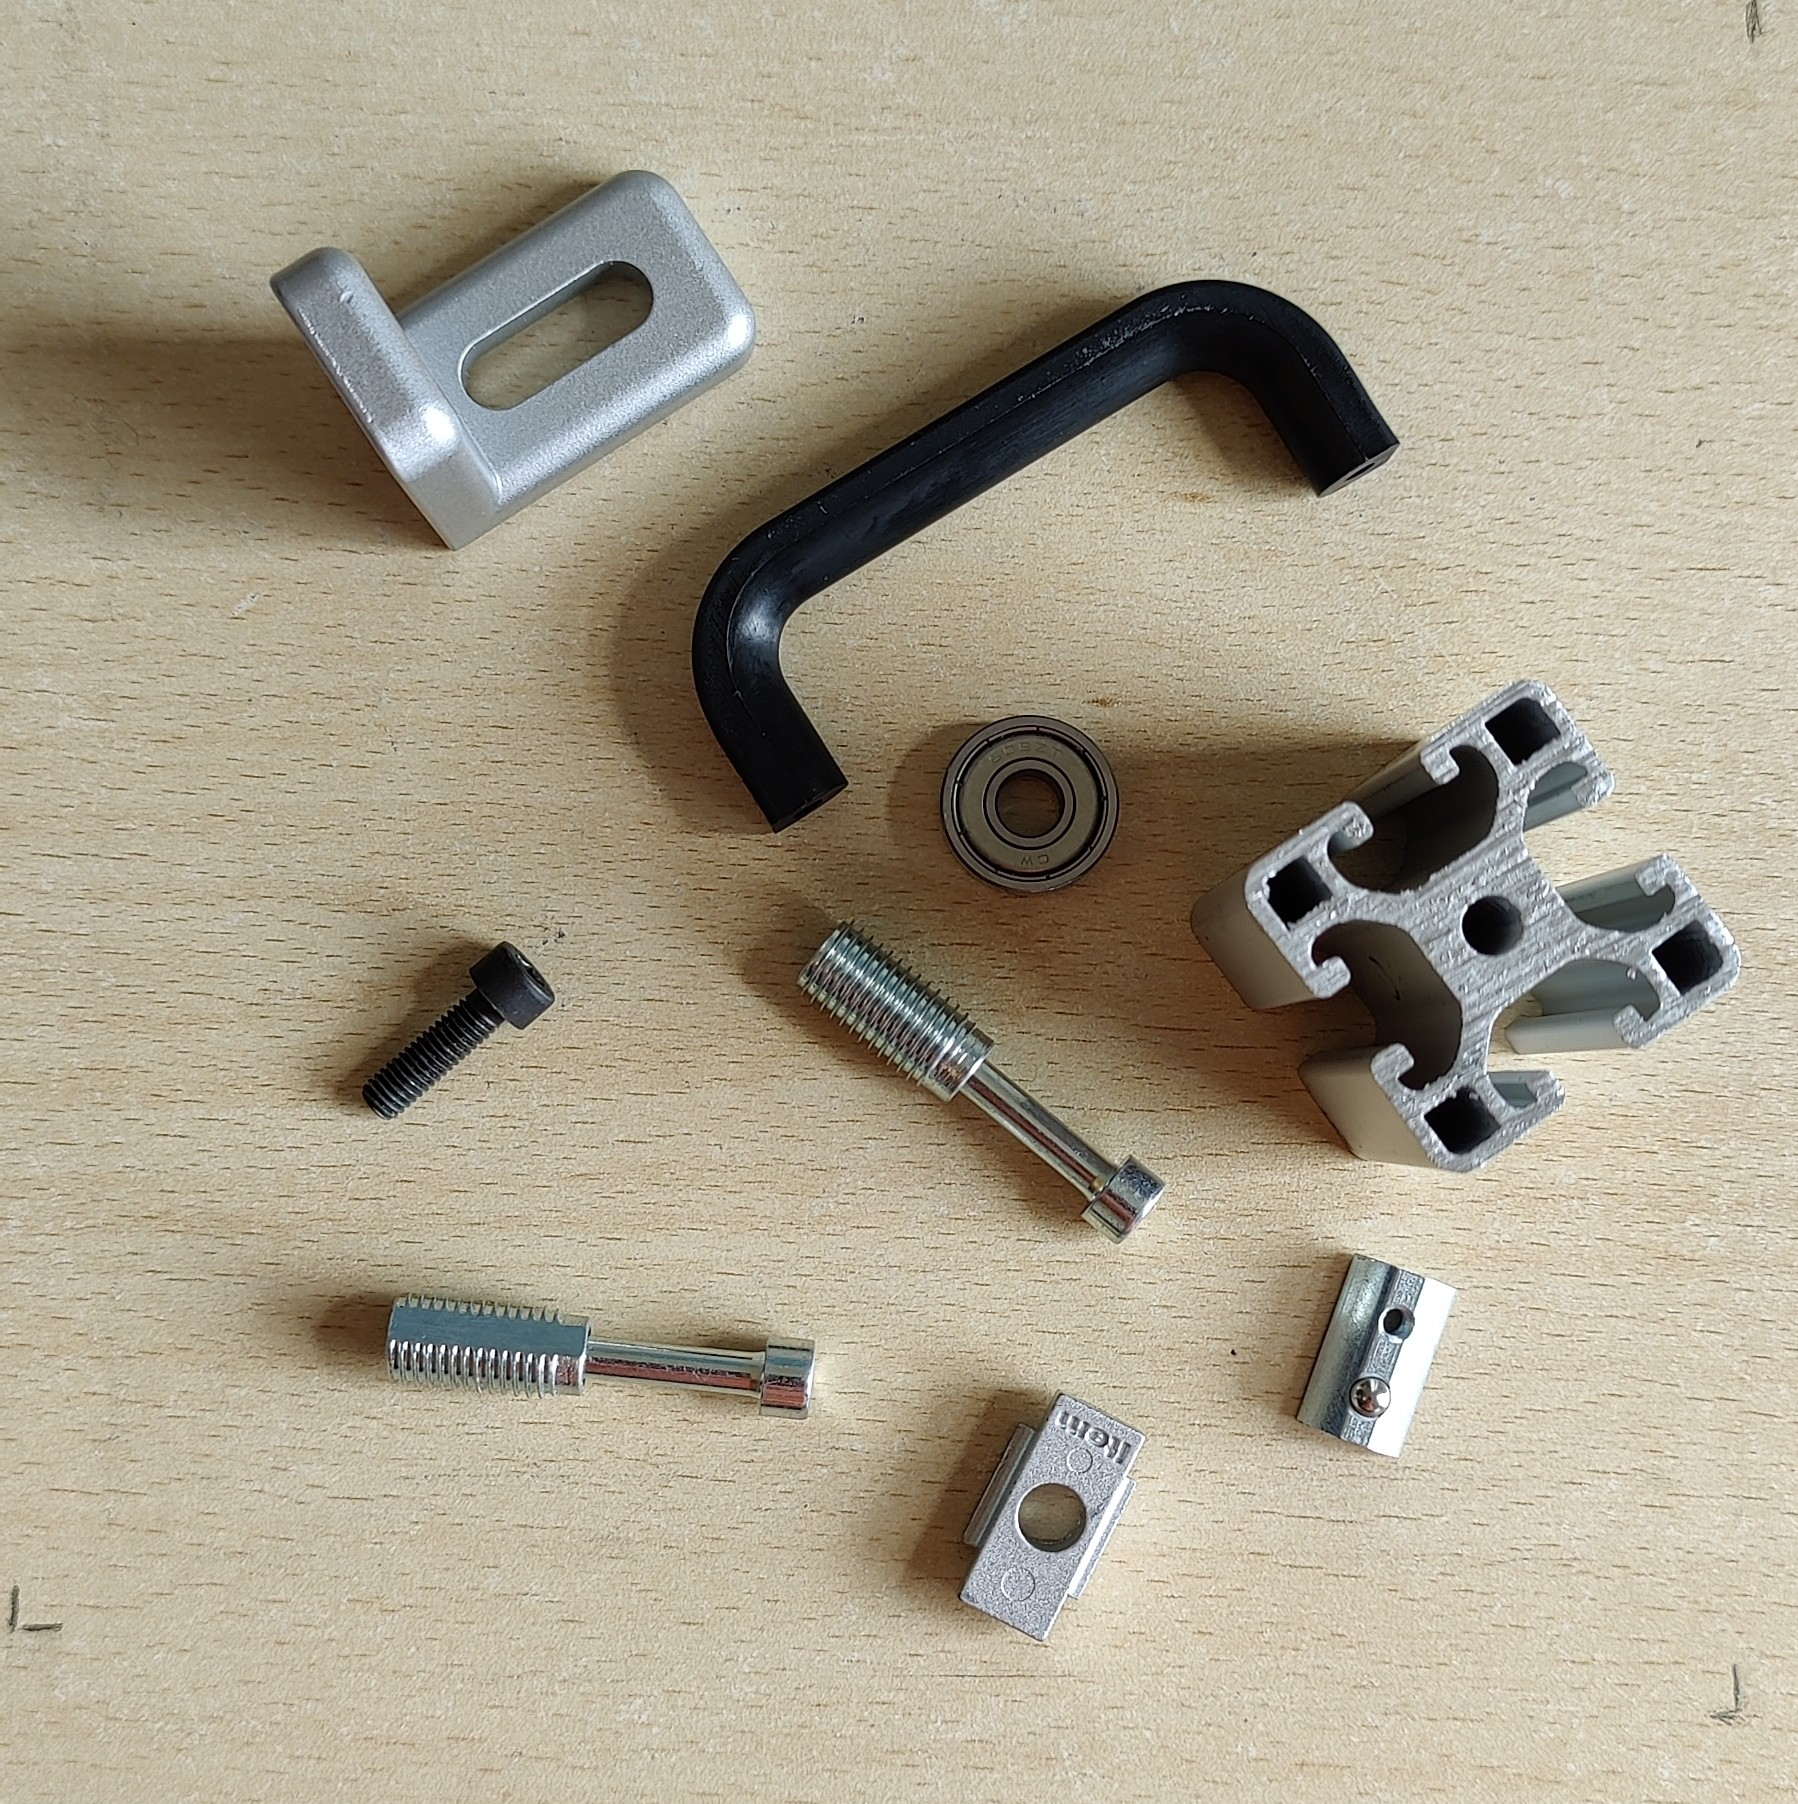Aluminium Extension: (1185, 673, 1744, 1177)
Ball Bearing: (935, 714, 1121, 899)
Multiwinkel: (268, 166, 759, 553)
Pull Handle: (692, 277, 1401, 835)
Shoulder Socket Head Cap Screw: (794, 918, 1169, 1248), (380, 1289, 818, 1422)
Socket Head Cap Screw: (357, 938, 558, 1123)
T Nut Square: (955, 1388, 1148, 1648)
T Spring Nut: (1291, 1251, 1460, 1462)
